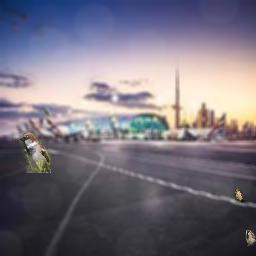Sparrow: (19, 133, 51, 173), (246, 230, 256, 246), (235, 189, 245, 203)
